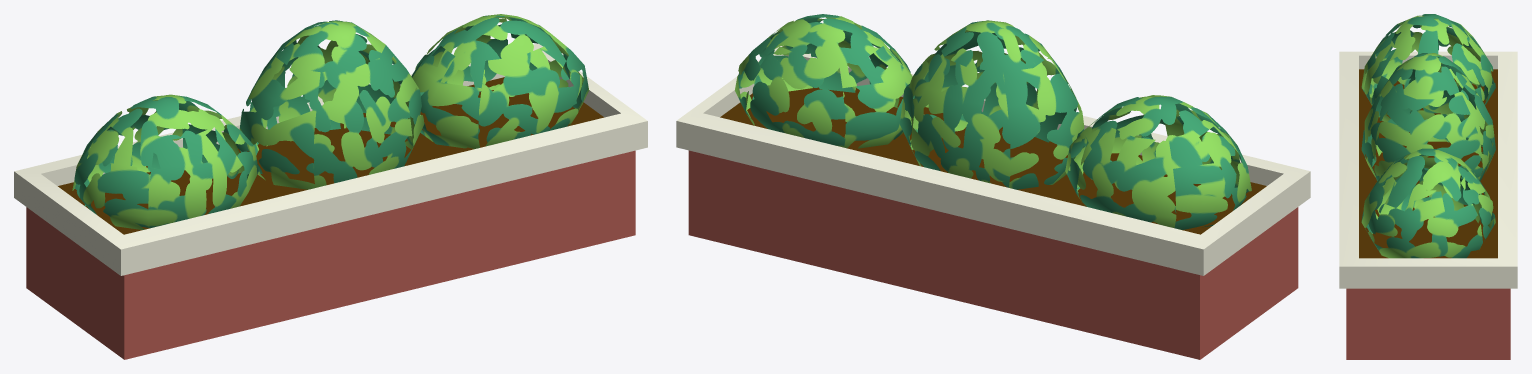
Rendered from Bushes_Model.fbx.
3 views of the same model, side by side, from view 1: azimuth 30°, elevation 25°; view 2: azimuth 150°, elevation 25°; view 3: azimuth 270°, elevation 25° (orthographic). The views are drawn at different scales.
Visible parts, largest first — view 1: pCube2; view 2: pCube2; view 3: pCube2.
Boxes of the visible parts, x1,y1,x2,y2 form: pCube2: (14, 14, 647, 359); pCube2: (676, 14, 1310, 359); pCube2: (1339, 14, 1517, 359).
Bounding box in the file's own units: 6.22 × 2.69 × 2.18.
1 material, 1 textured.
